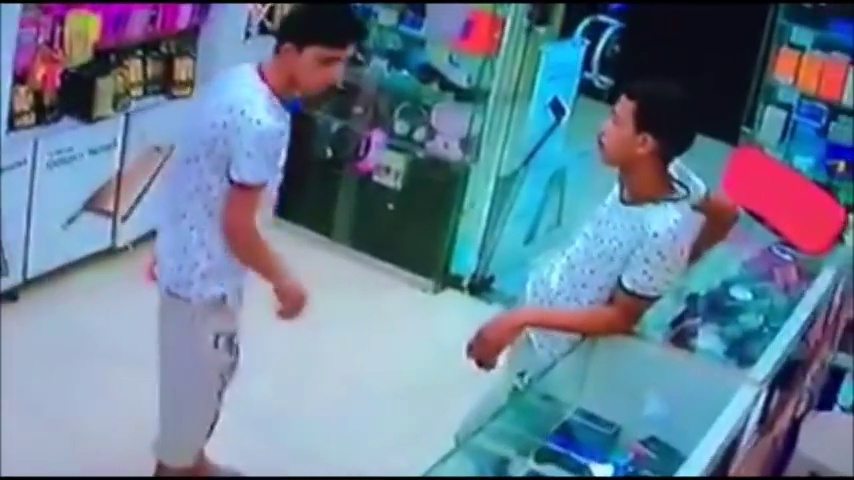face: (593, 100, 650, 166), (294, 46, 347, 100)
